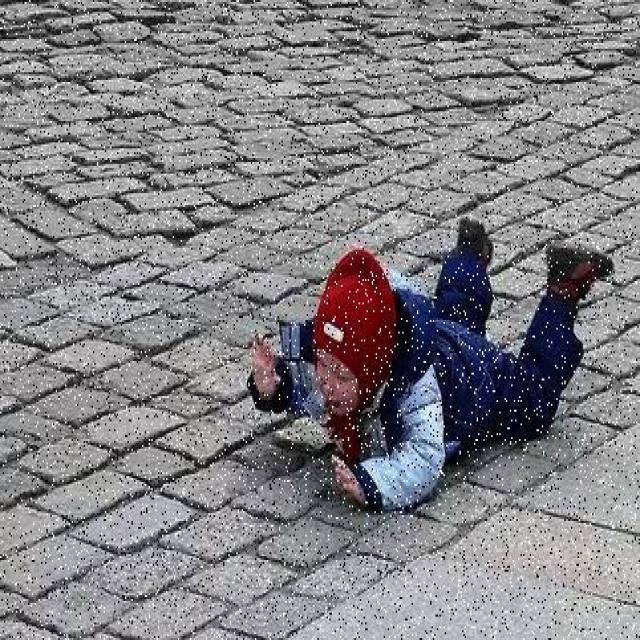fall: (251, 220, 607, 506)
